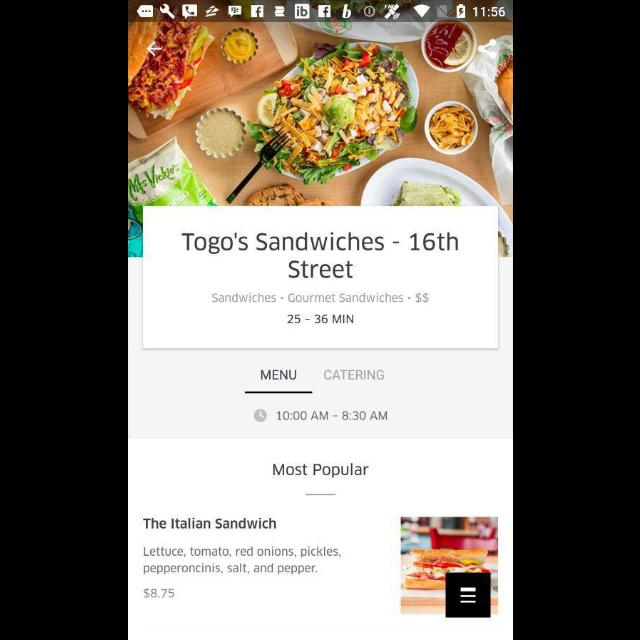icon: (444, 572, 490, 618), (476, 40, 496, 59), (146, 42, 162, 56), (253, 409, 267, 423)
image: (128, 24, 512, 258), (399, 516, 496, 614)
text: (182, 232, 458, 280), (144, 546, 340, 574), (212, 292, 428, 304), (142, 517, 276, 529), (273, 464, 369, 478), (276, 410, 386, 420), (324, 370, 384, 380), (286, 316, 354, 324), (260, 370, 296, 380), (142, 588, 174, 598)
uppertaskbar: (128, 1, 512, 23)
